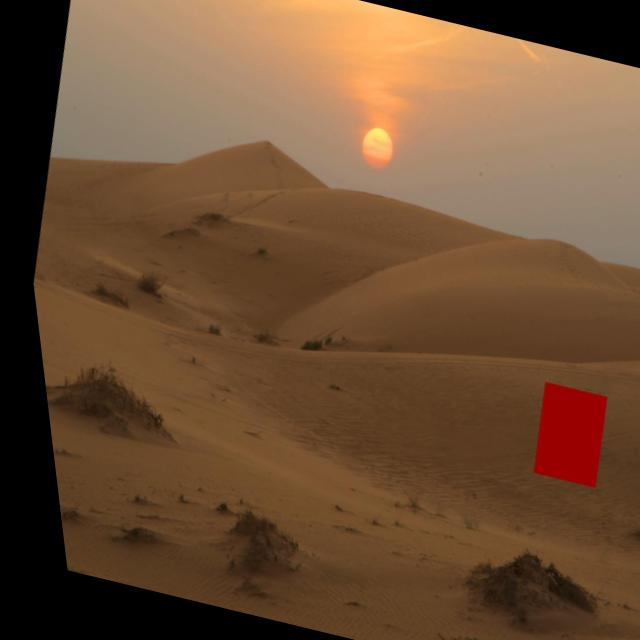RedSquare: (504, 371, 614, 497)
